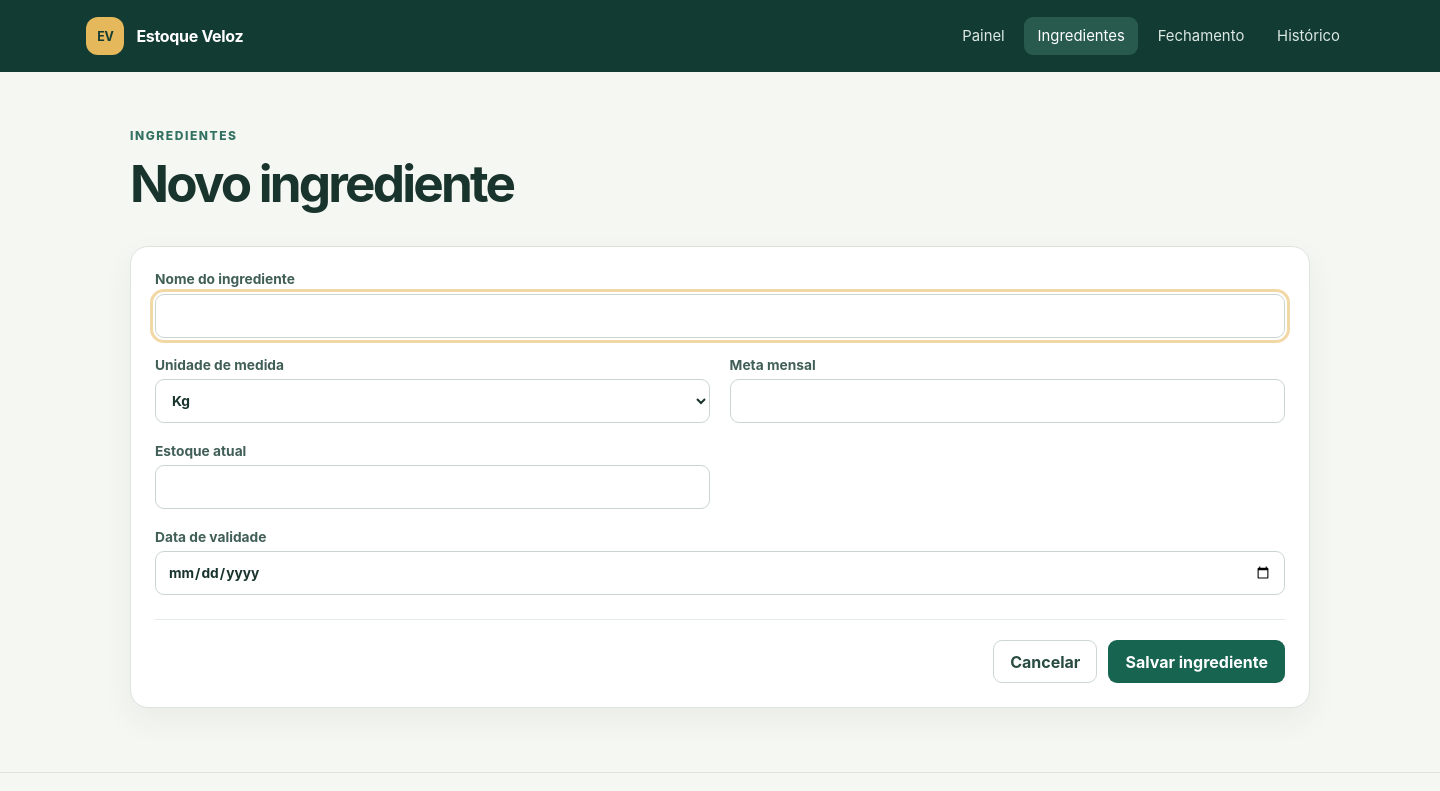
Test: Telas de ingredientes › cadastra ingrediente e abre seu detalhe
Step 1. Type "Farinha" into the field labelled "Nome do ingrediente" → point(720, 316), box [155,294,1285,338]
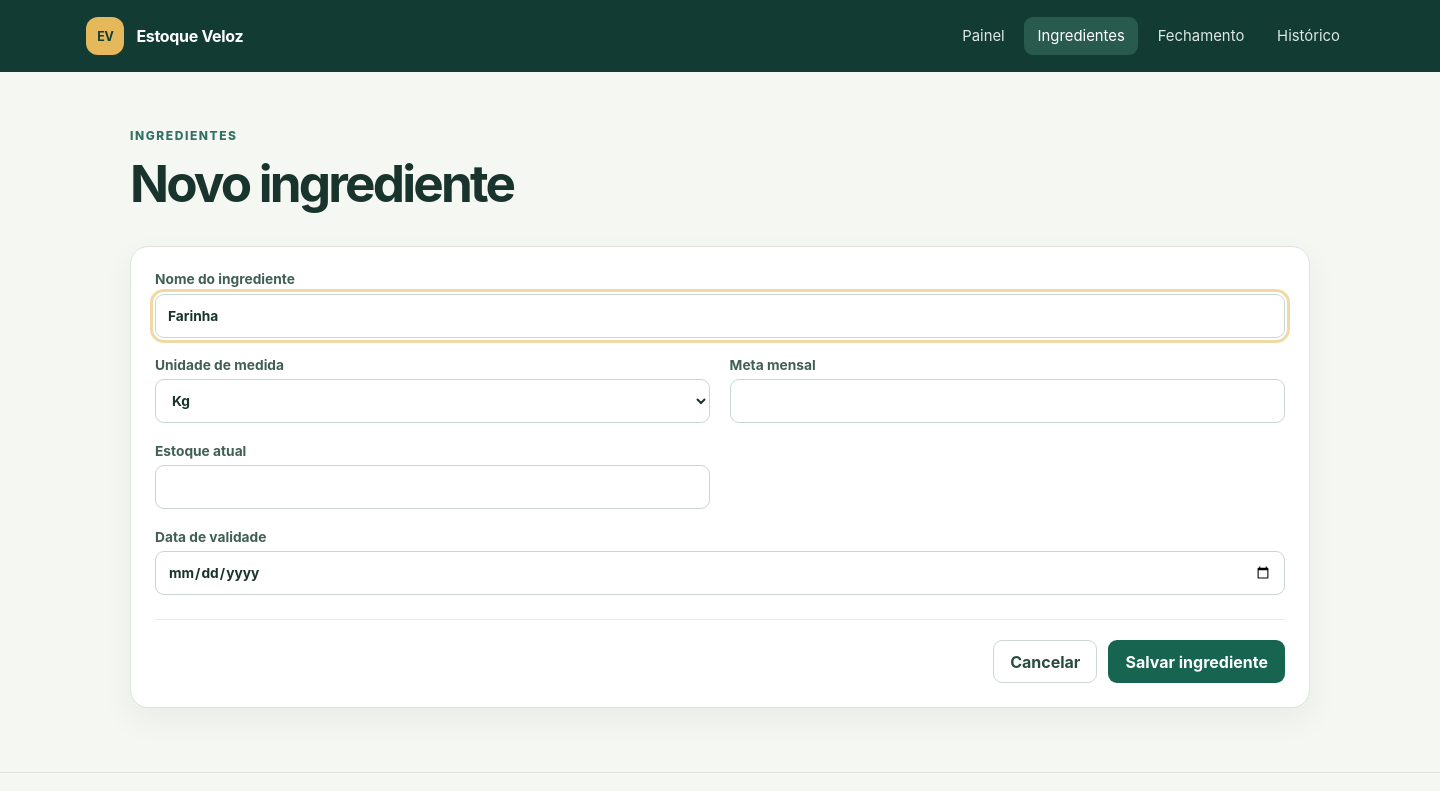
Step 2. Type "20" into the number field labelled "Meta mensal" → point(1007, 401), box [730,379,1285,423]
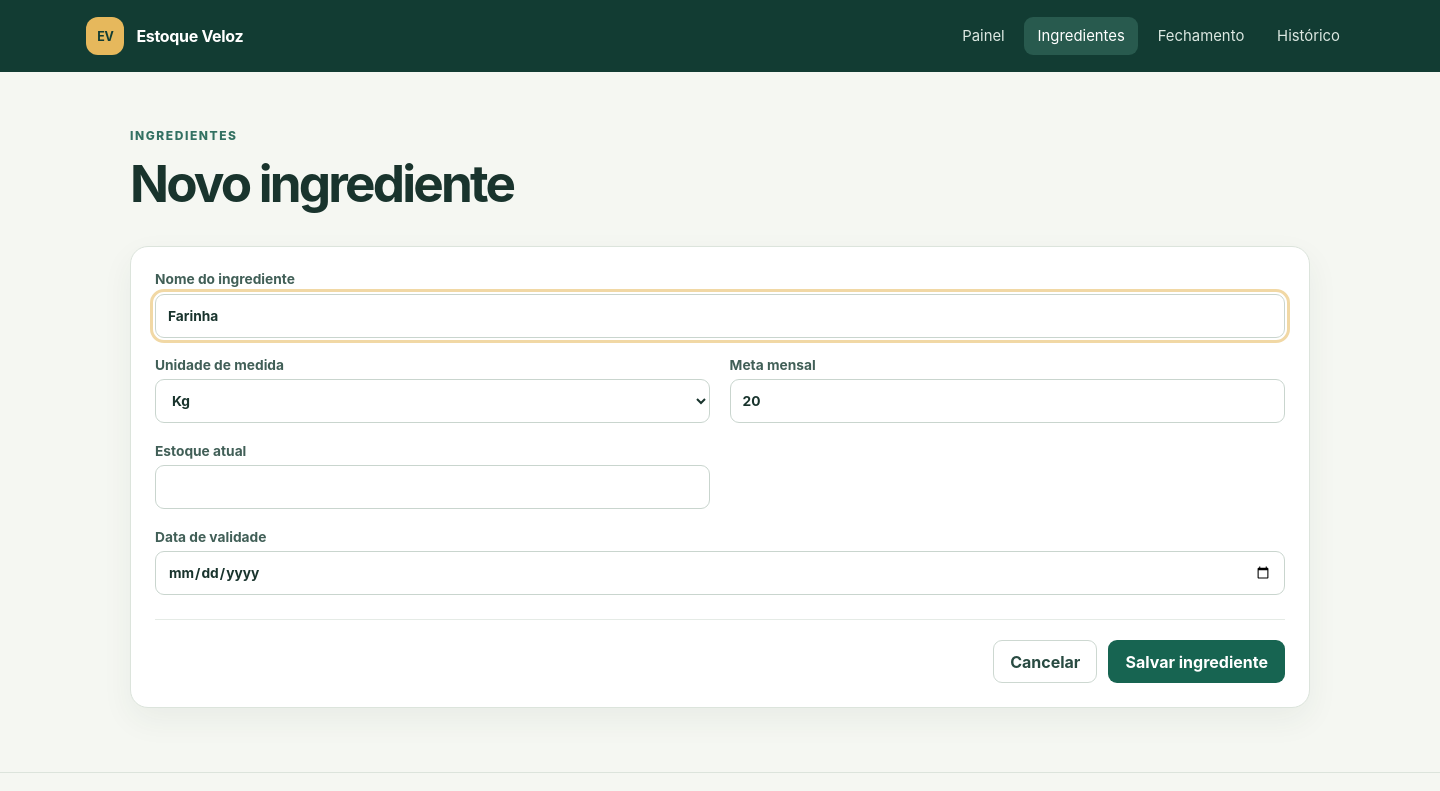
Step 3. Type "6" into the number field labelled "Estoque atual" → point(433, 487), box [155,465,710,509]
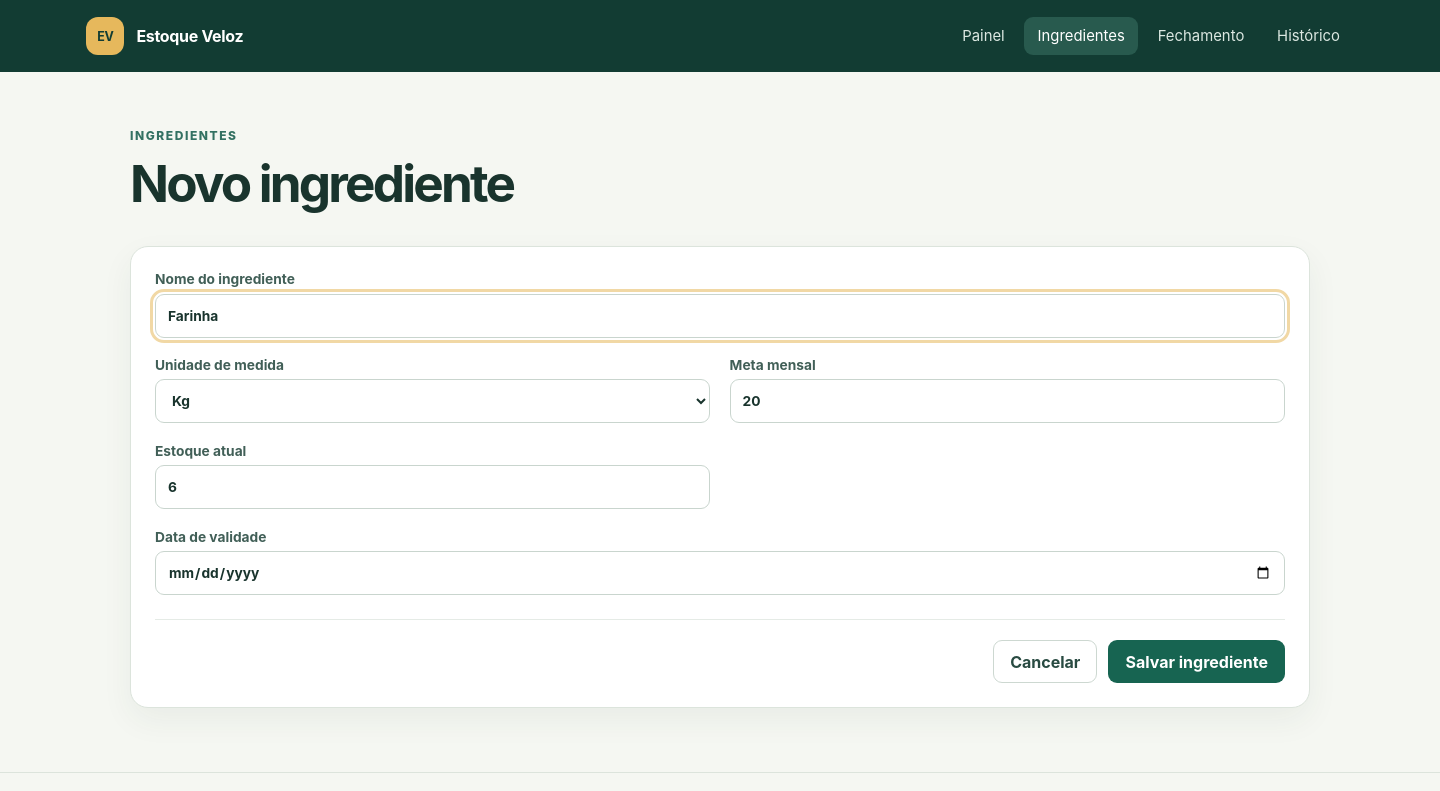
Step 4. Type "2026-10-20" into the date field labelled "Data de validade" → point(720, 573), box [155,551,1285,595]
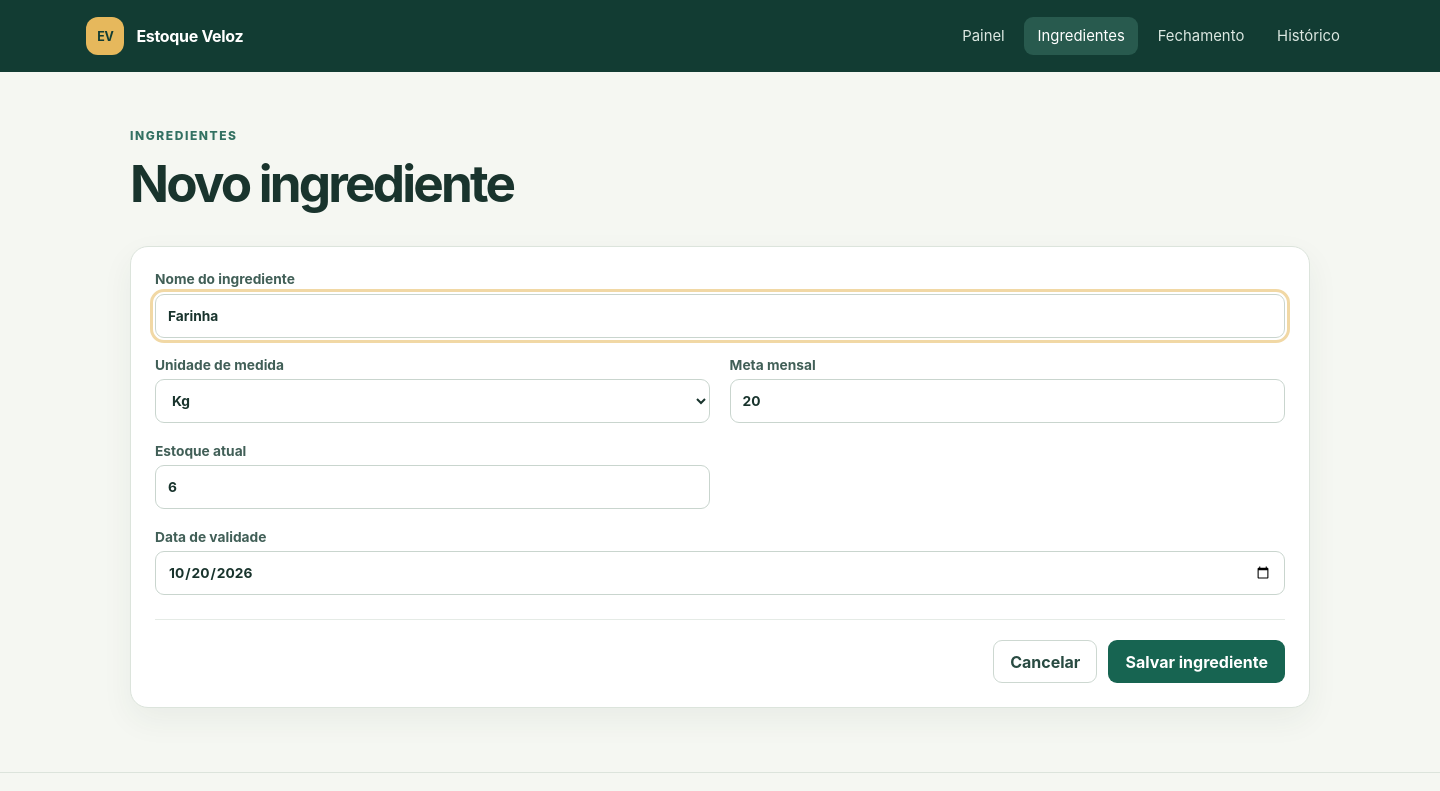
Step 5. Click the button "Salvar ingrediente" → point(1197, 662), box [1108,640,1285,683]
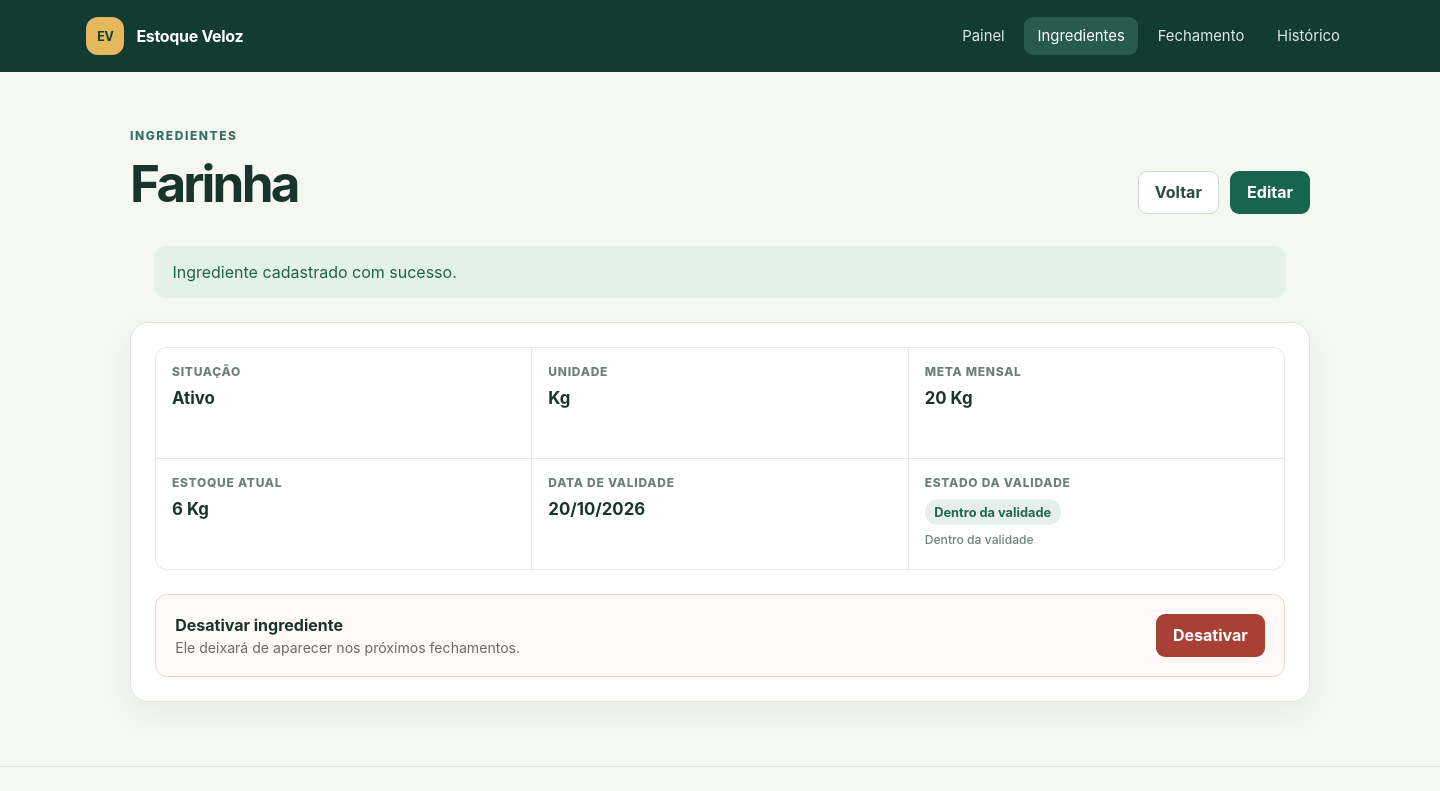
expect the text "Ingrediente cadastrado com sucesso." is shown: met, box [172,262,457,282]
expect the heading "Farinha" is shown: met, box [130,152,298,214]
